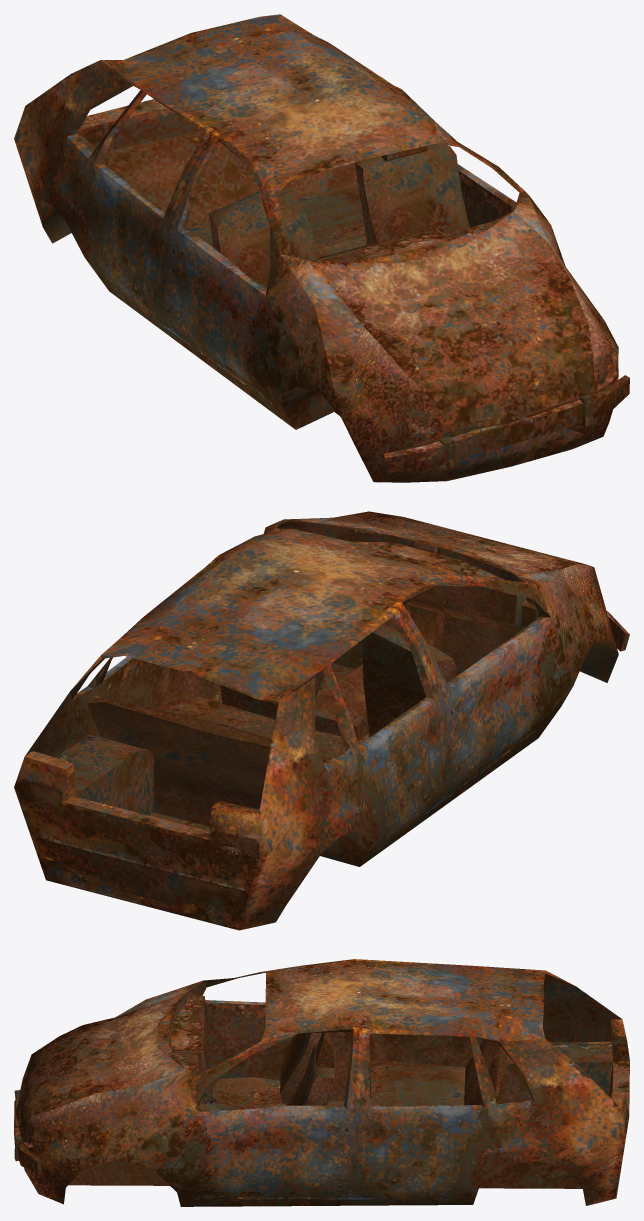
Rendered from Prop_Wj033.glb.
3 views of the same model, one above another, from view 1: azimuth 30°, elevation 25°; view 2: azimuth 150°, elevation 25°; view 3: azimuth 270°, elevation 25° (orthographic). The views are drawn at different scales.
Parts seen in each view (by area): view 1: xiutz_wj033; view 2: xiutz_wj033; view 3: xiutz_wj033.
Boxes of the visible parts, x1,y1,x2,y2 form: xiutz_wj033: (14, 14, 629, 482); xiutz_wj033: (14, 511, 629, 930); xiutz_wj033: (14, 959, 629, 1206).
Size of the model in its own units: 2.34 by 1.68 by 5.26.
Materials: 1 (1 with a texture image).
